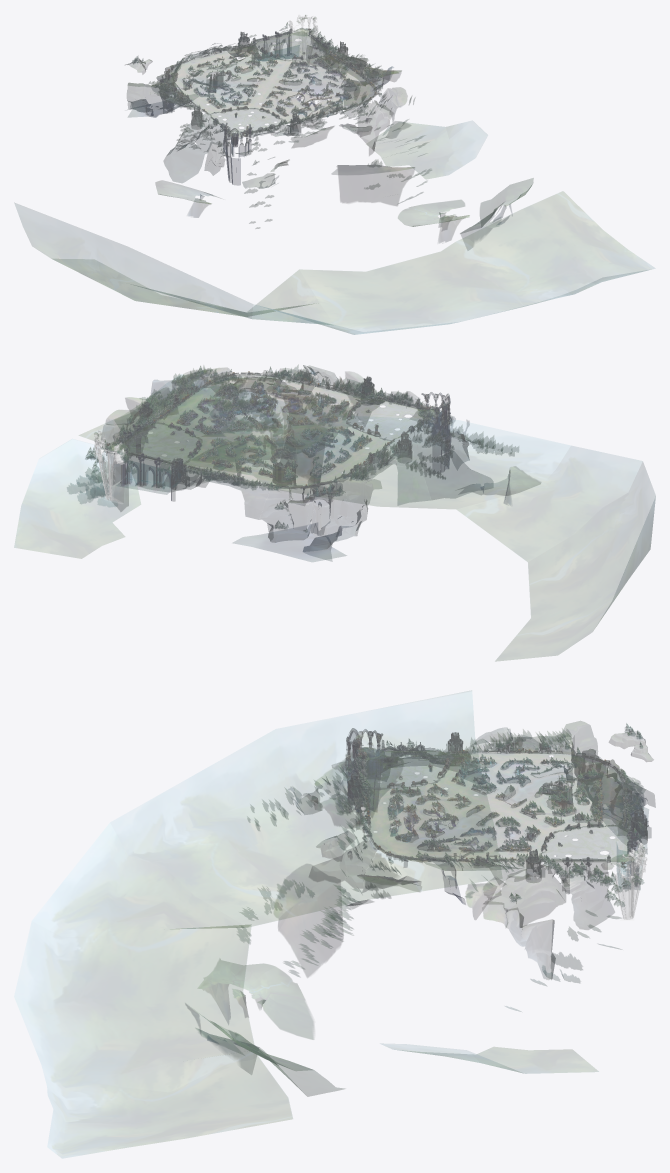
The model's file is summoners-rift.glb.
The picture shows the model from 3 angles, top to bottom: view 1: azimuth 30°, elevation 25°; view 2: azimuth 150°, elevation 25°; view 3: azimuth 270°, elevation 25°; orthographic projection. The views are drawn at different scales.
Visible parts, largest first — view 1: SummonersRift; view 2: SummonersRift; view 3: SummonersRift.
Part boxes in pixels (left/top/right/bottom): SummonersRift: left=15, top=15, right=654, bottom=334; SummonersRift: left=14, top=365, right=655, bottom=661; SummonersRift: left=14, top=690, right=655, bottom=1158.
Size of the model in its own units: 44083 by 13096 by 34243.
Materials: 113 (112 with a texture image).
